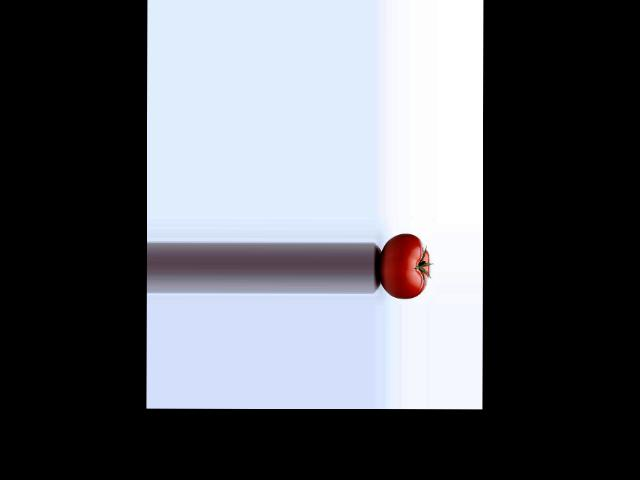tomato: (379, 233, 429, 299)
